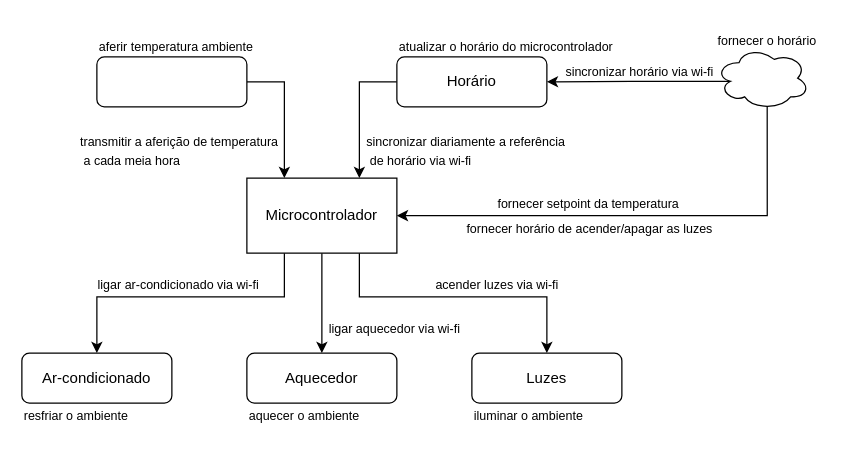
Image size: 863x455. Some labels were removed from this diagram. Each missing label, with the centre of its shape:
Internet: the point at 761,77
Sensor de Temperatura: the point at 171,81
